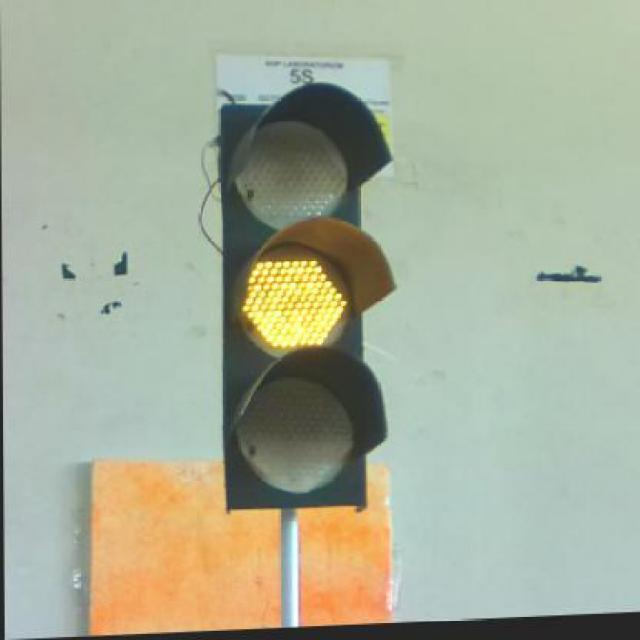yellow_light: (218, 83, 393, 510)
